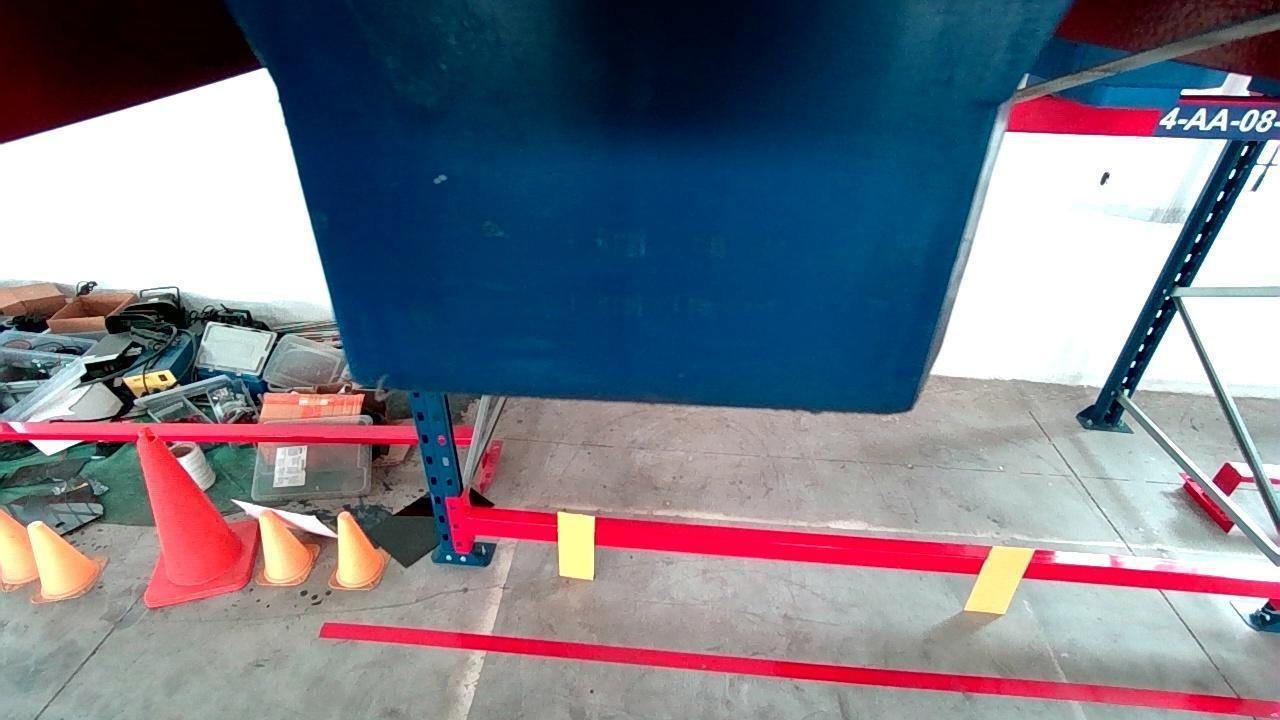h_rack: (465, 511, 1280, 601), (471, 511, 1280, 598), (1006, 99, 1280, 139)
orange_strip: (966, 545, 1036, 615), (559, 512, 593, 576)
red_line: (318, 618, 1280, 720)
